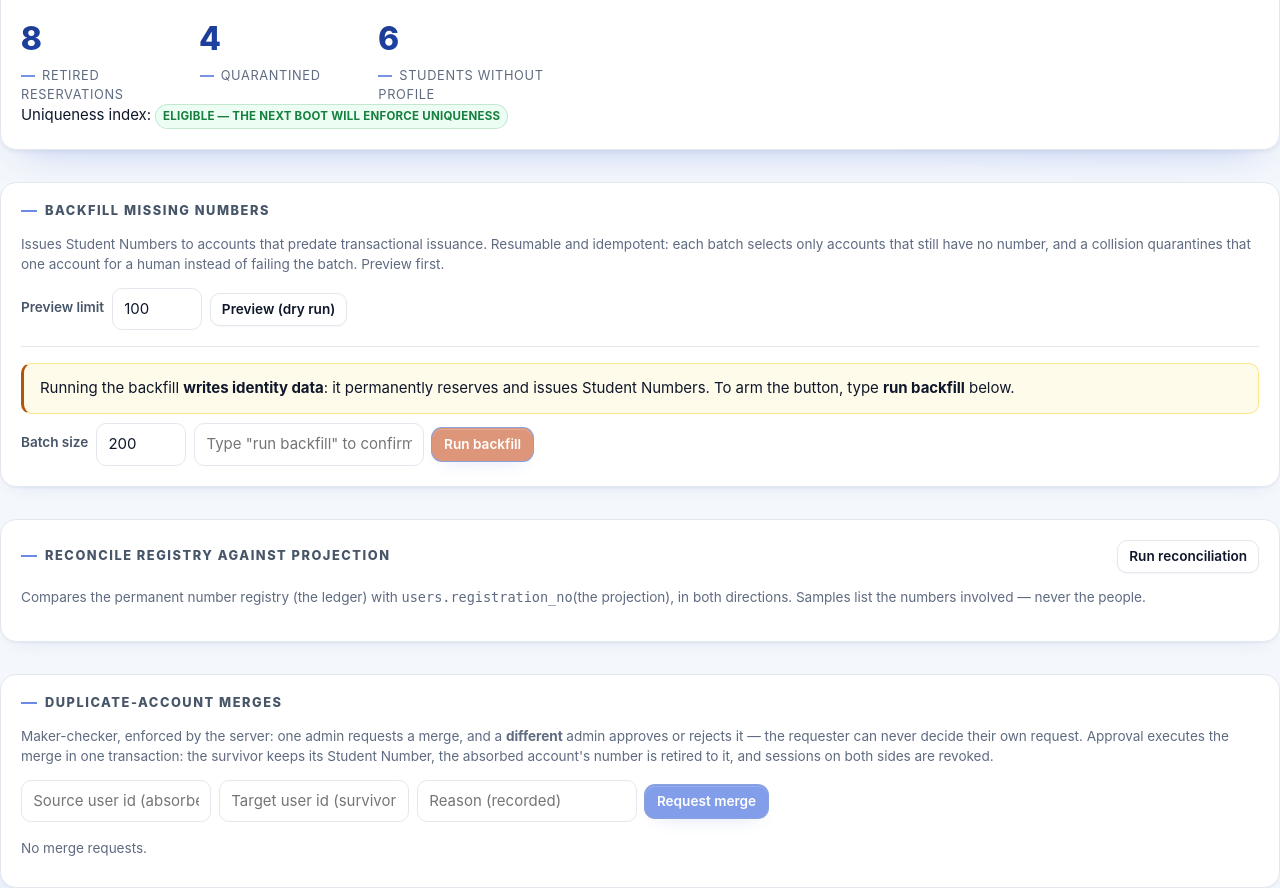
Scenario: reconciliation › fetches on demand and reports drift with number-only samples
(page scrolled)
What coordinates should you click on to do the following:
click the button "Run reconciliation"
I would click on:
 (1188, 556)
Its box is [1117,540,1259,573].
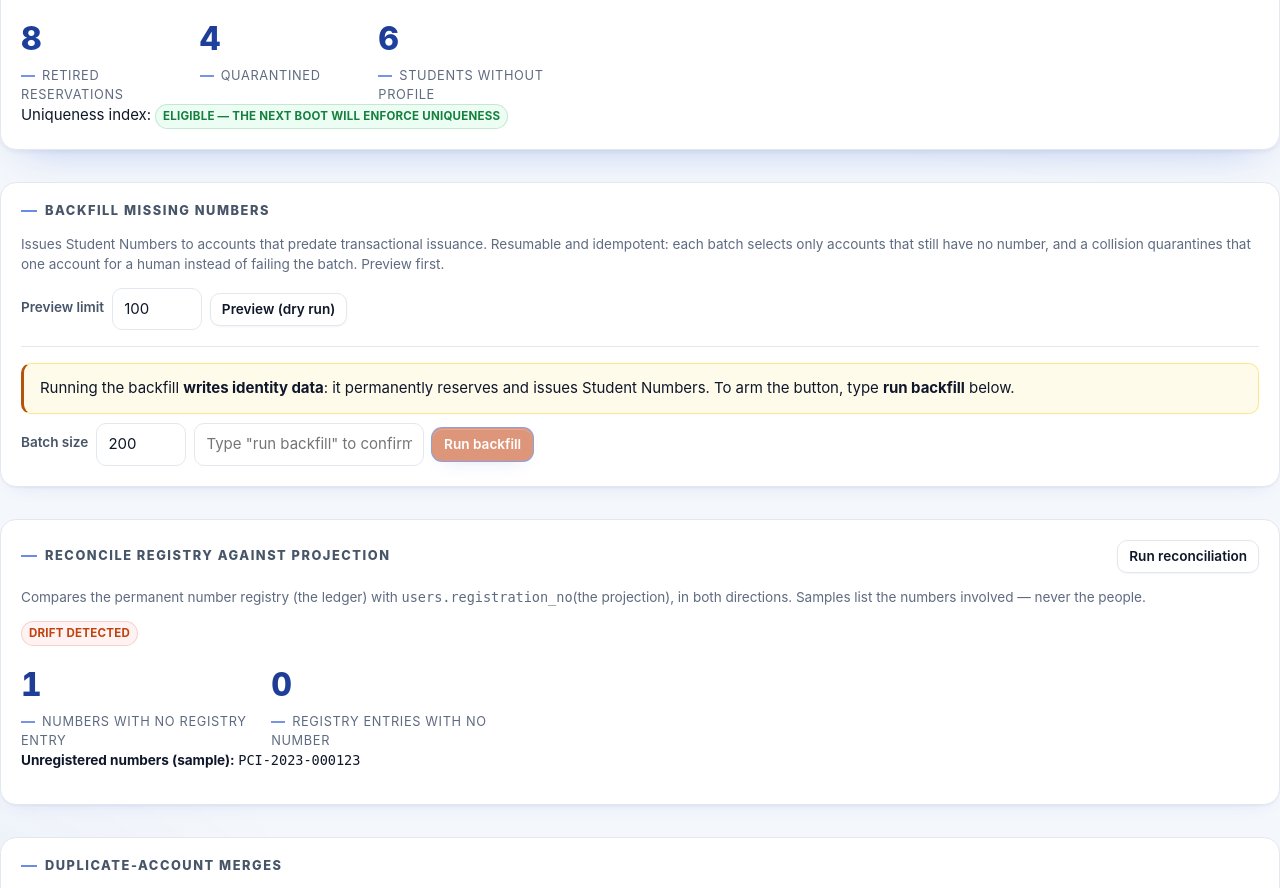
Check: the text "Drift detected" is shown, box [21,621,138,646]
Check: the text "PCI-2023-000123" is shown, box [238,752,360,768]
